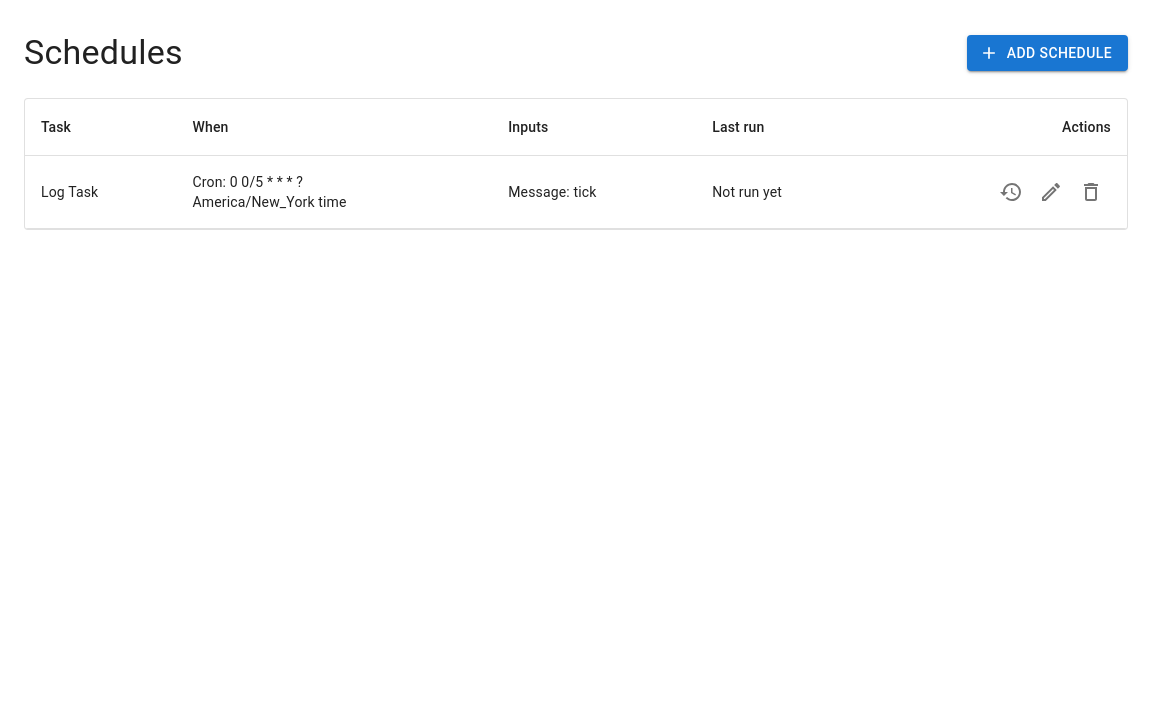
Test case: run history dialog › shows an error with a retry when the history cannot be loaded
The width and height of the screenshot is (1152, 720).
Click the button named "Run history" at x=1011, y=192, box [991, 172, 1031, 212]
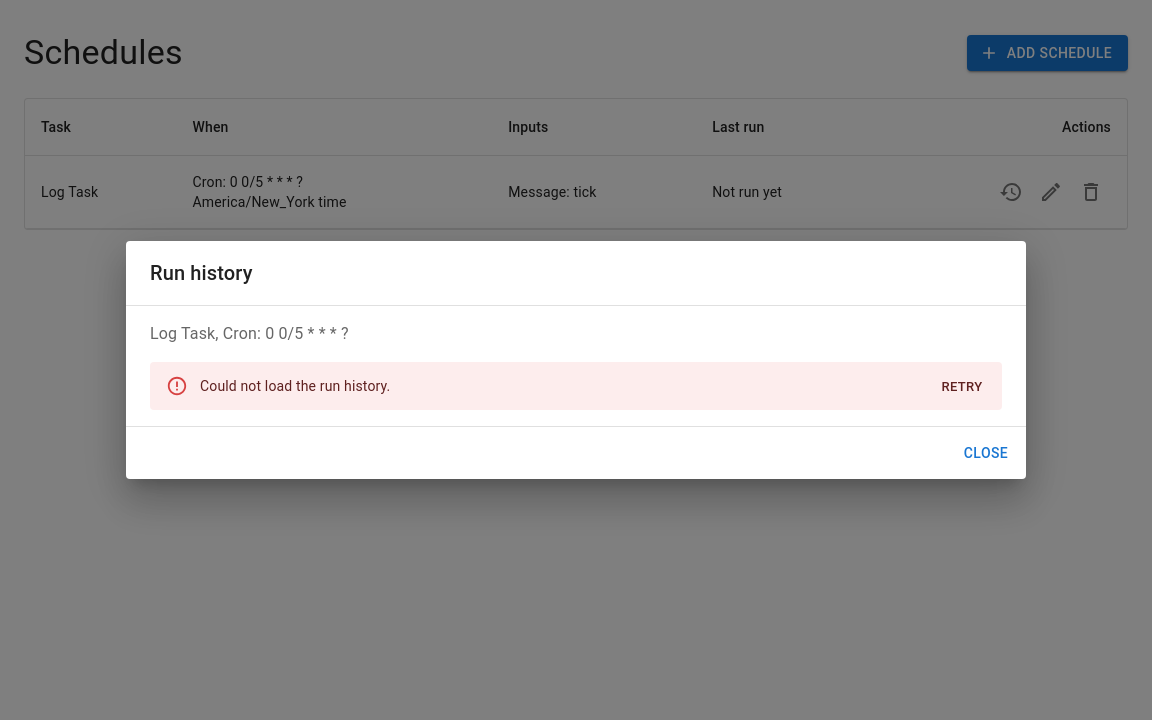
Expected: the text "Could not load the run history." is shown, [200, 378, 390, 394]
Click the button "Retry" at x=962, y=387, box [930, 372, 994, 402]
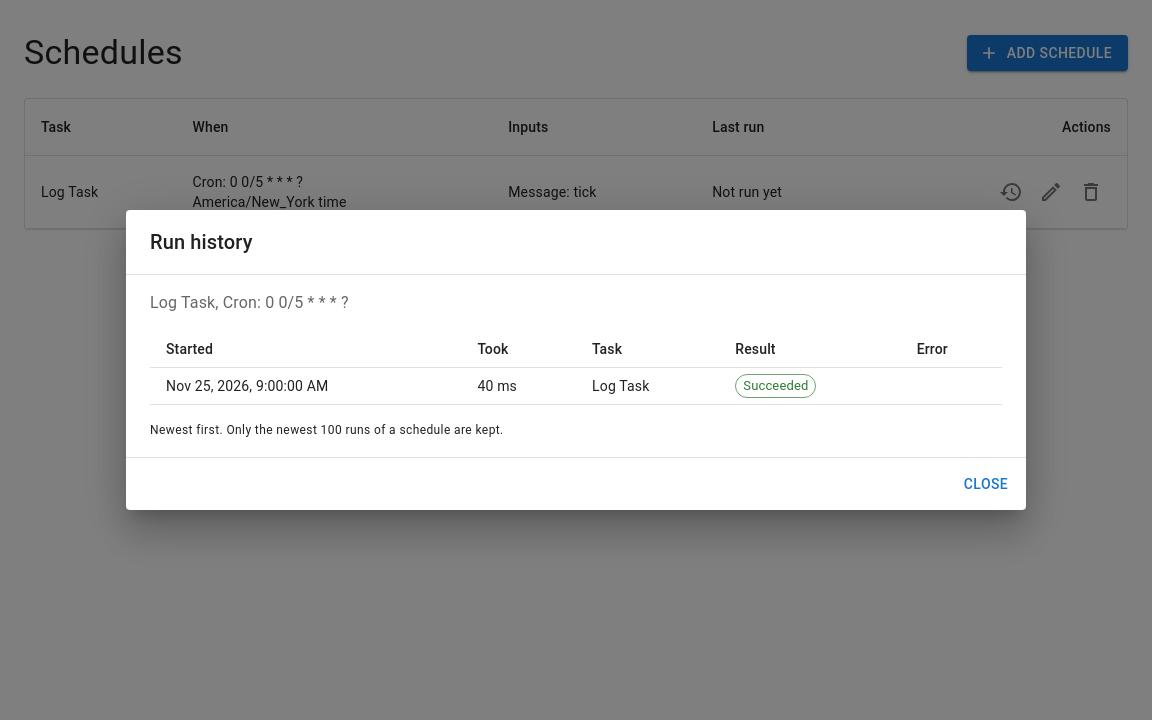
Expected: the table named "Runs" is shown, [150, 331, 1002, 405]
Expected: the text "Could not load the run history." is gone
